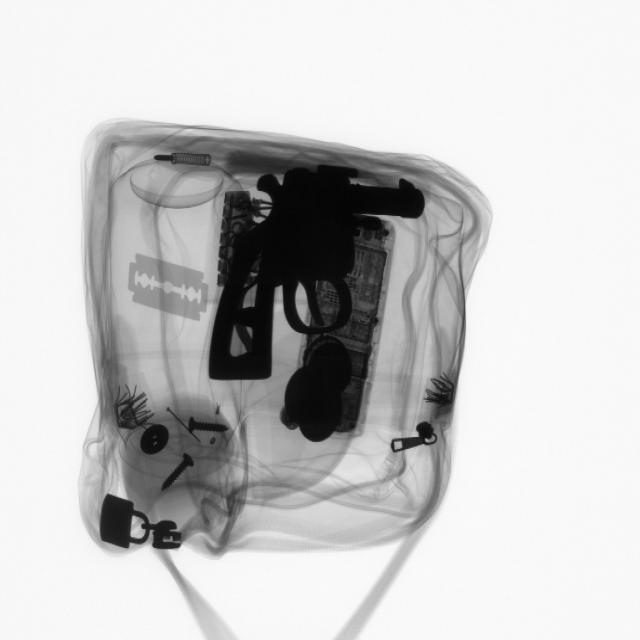BLADE: (124, 251, 217, 332)
GUN: (213, 165, 430, 387)
SCREW: (158, 446, 205, 500), (179, 411, 243, 447)
